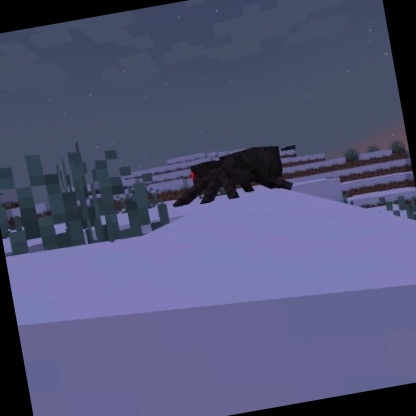spider: (163, 139, 295, 213)
